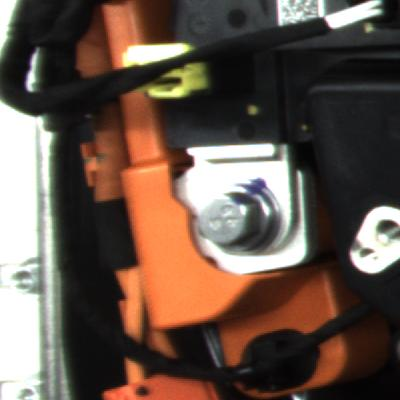nut_b: (189, 184, 292, 264)
